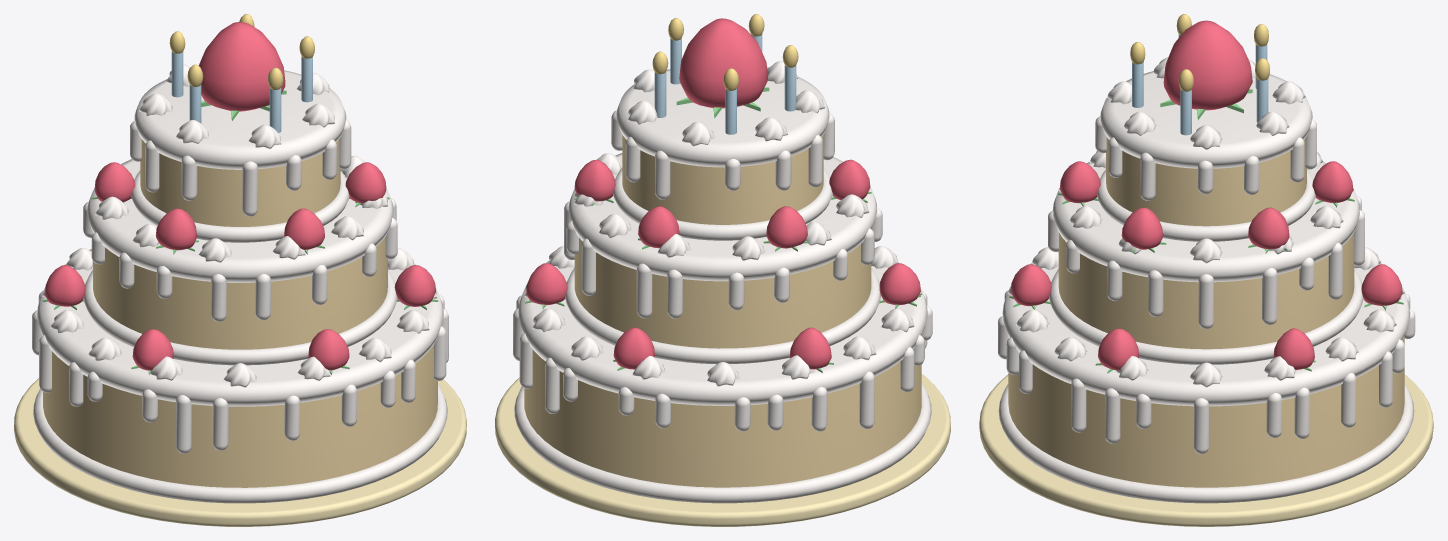
The model's file is CakeTiered.glb.
The picture shows the model from 3 angles, left to right: view 1: azimuth 30°, elevation 25°; view 2: azimuth 150°, elevation 25°; view 3: azimuth 270°, elevation 25°; orthographic projection.
Visible parts, largest first — view 1: Sponge, Cream, Drips, Berries, Board, Piping, Candles, Flames, BerryLeaves; view 2: Sponge, Cream, Berries, Drips, Board, Piping, Candles, Flames, BerryLeaves; view 3: Sponge, Cream, Drips, Berries, Board, Piping, Candles, Flames, BerryLeaves.
Boxes of the visible parts, bbox=[...] form: Sponge: bbox=[43, 139, 437, 487]; Cream: bbox=[33, 70, 447, 503]; Drips: bbox=[32, 120, 448, 453]; Berries: bbox=[45, 22, 435, 370]; Board: bbox=[14, 378, 466, 526]; Piping: bbox=[42, 64, 437, 387]; Candles: bbox=[171, 51, 312, 133]; Flames: bbox=[169, 14, 314, 89]; BerryLeaves: bbox=[42, 90, 438, 374]; Sponge: bbox=[524, 135, 921, 487]; Cream: bbox=[514, 67, 931, 503]; Berries: bbox=[526, 18, 920, 369]; Drips: bbox=[513, 110, 932, 431]; Board: bbox=[495, 374, 950, 526]; Piping: bbox=[524, 61, 922, 386]; Candles: bbox=[654, 34, 796, 134]; Flames: bbox=[652, 14, 798, 90]; BerryLeaves: bbox=[525, 87, 920, 372]; Sponge: bbox=[1008, 137, 1404, 487]; Cream: bbox=[998, 71, 1414, 503]; Drips: bbox=[998, 116, 1415, 454]; Berries: bbox=[1010, 20, 1402, 370]; Board: bbox=[979, 374, 1433, 526]; Piping: bbox=[1008, 57, 1404, 387]; Candles: bbox=[1132, 34, 1268, 135]; Flames: bbox=[1130, 14, 1269, 91]; BerryLeaves: bbox=[1009, 89, 1403, 373].
Size of the model in its own units: 17.2 by 17.15 by 17.2.
